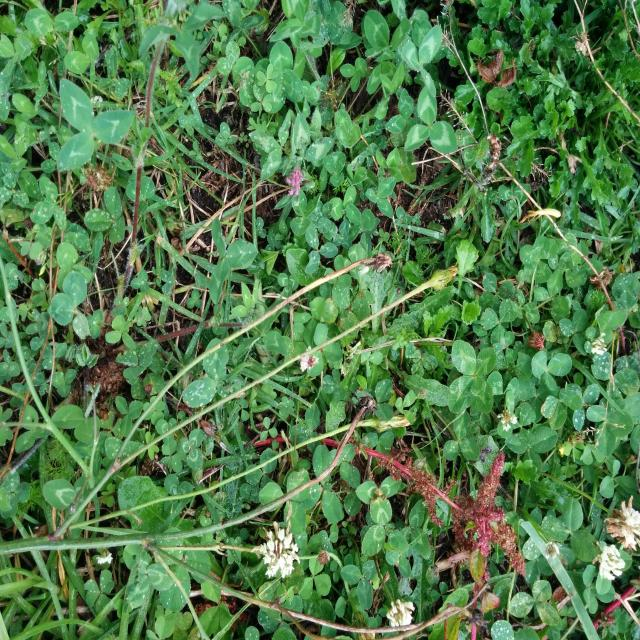Four Leaf Clover: (448, 340, 497, 414)
